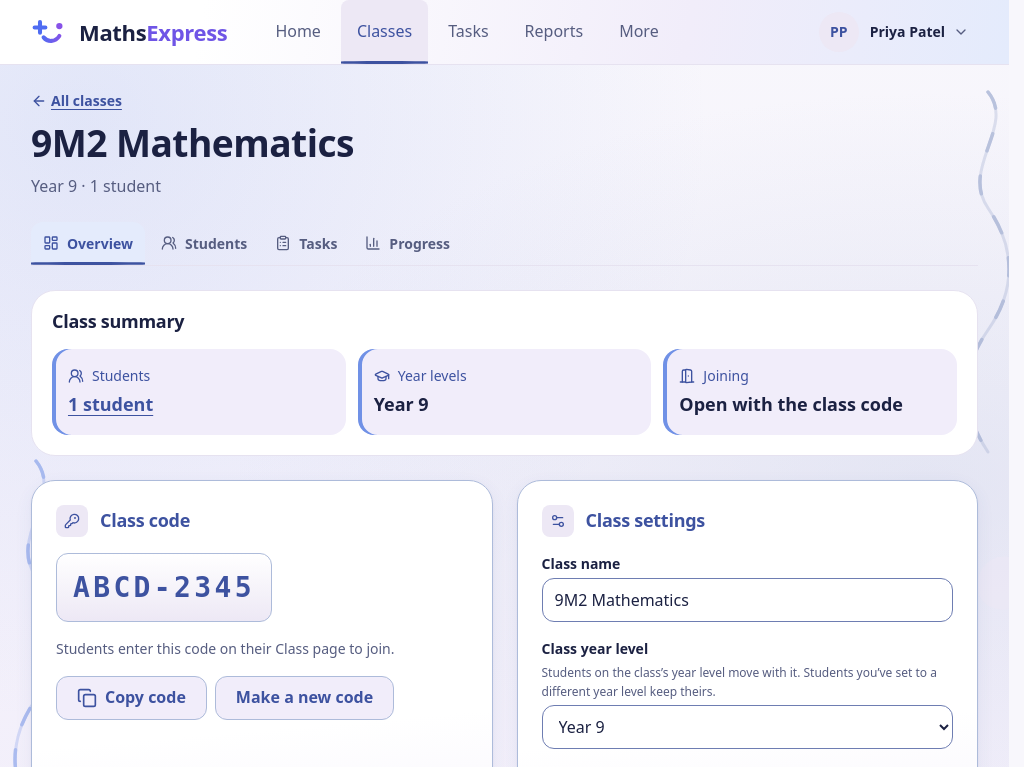
Test: teacher class page › keeps focus on Save after saving the class settings
Replace the text in the field labelled "Class name" with "9M2 Maths" at (747, 600), box [542,578,953,622]
(page scrolled)
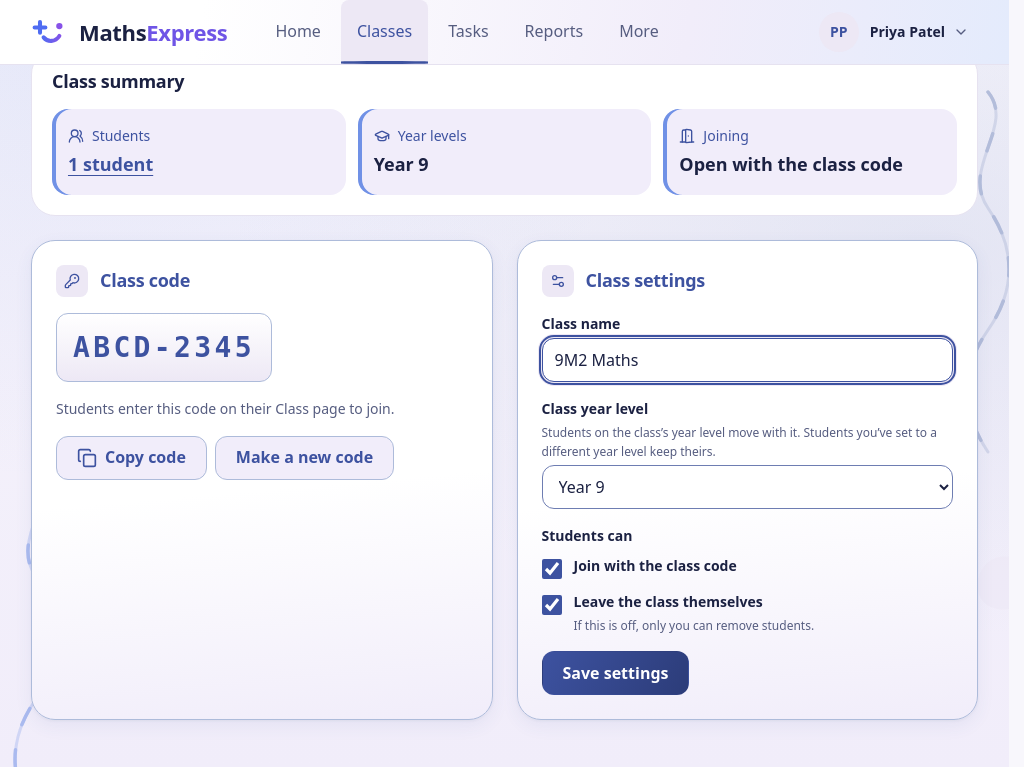
Click the button "Save settings" at (616, 673), box [542,651,690,695]
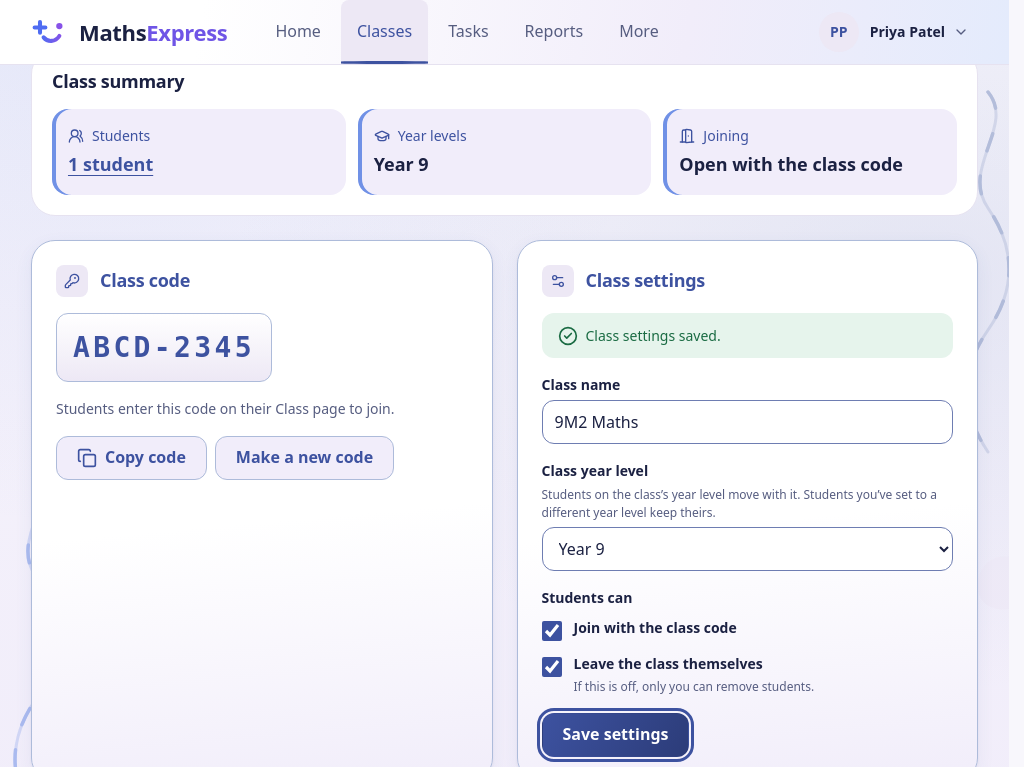
Check: the text "Class settings saved." is shown, box [586,325,721,346]
